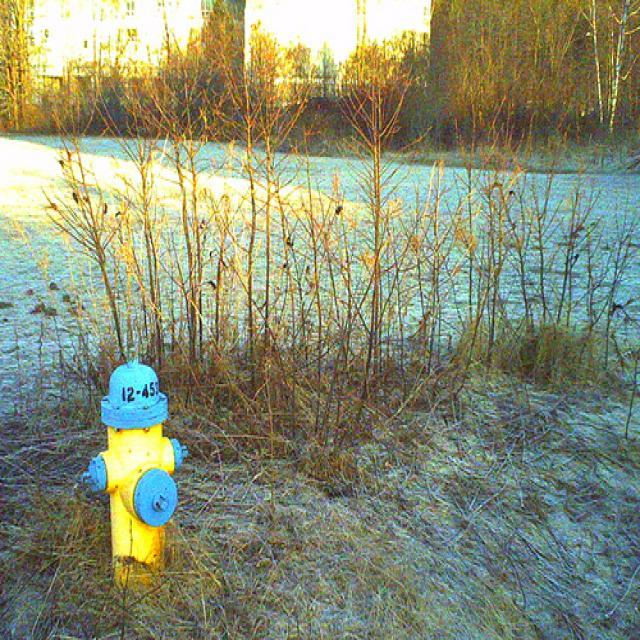fire_hydrant: (80, 346, 190, 589)
